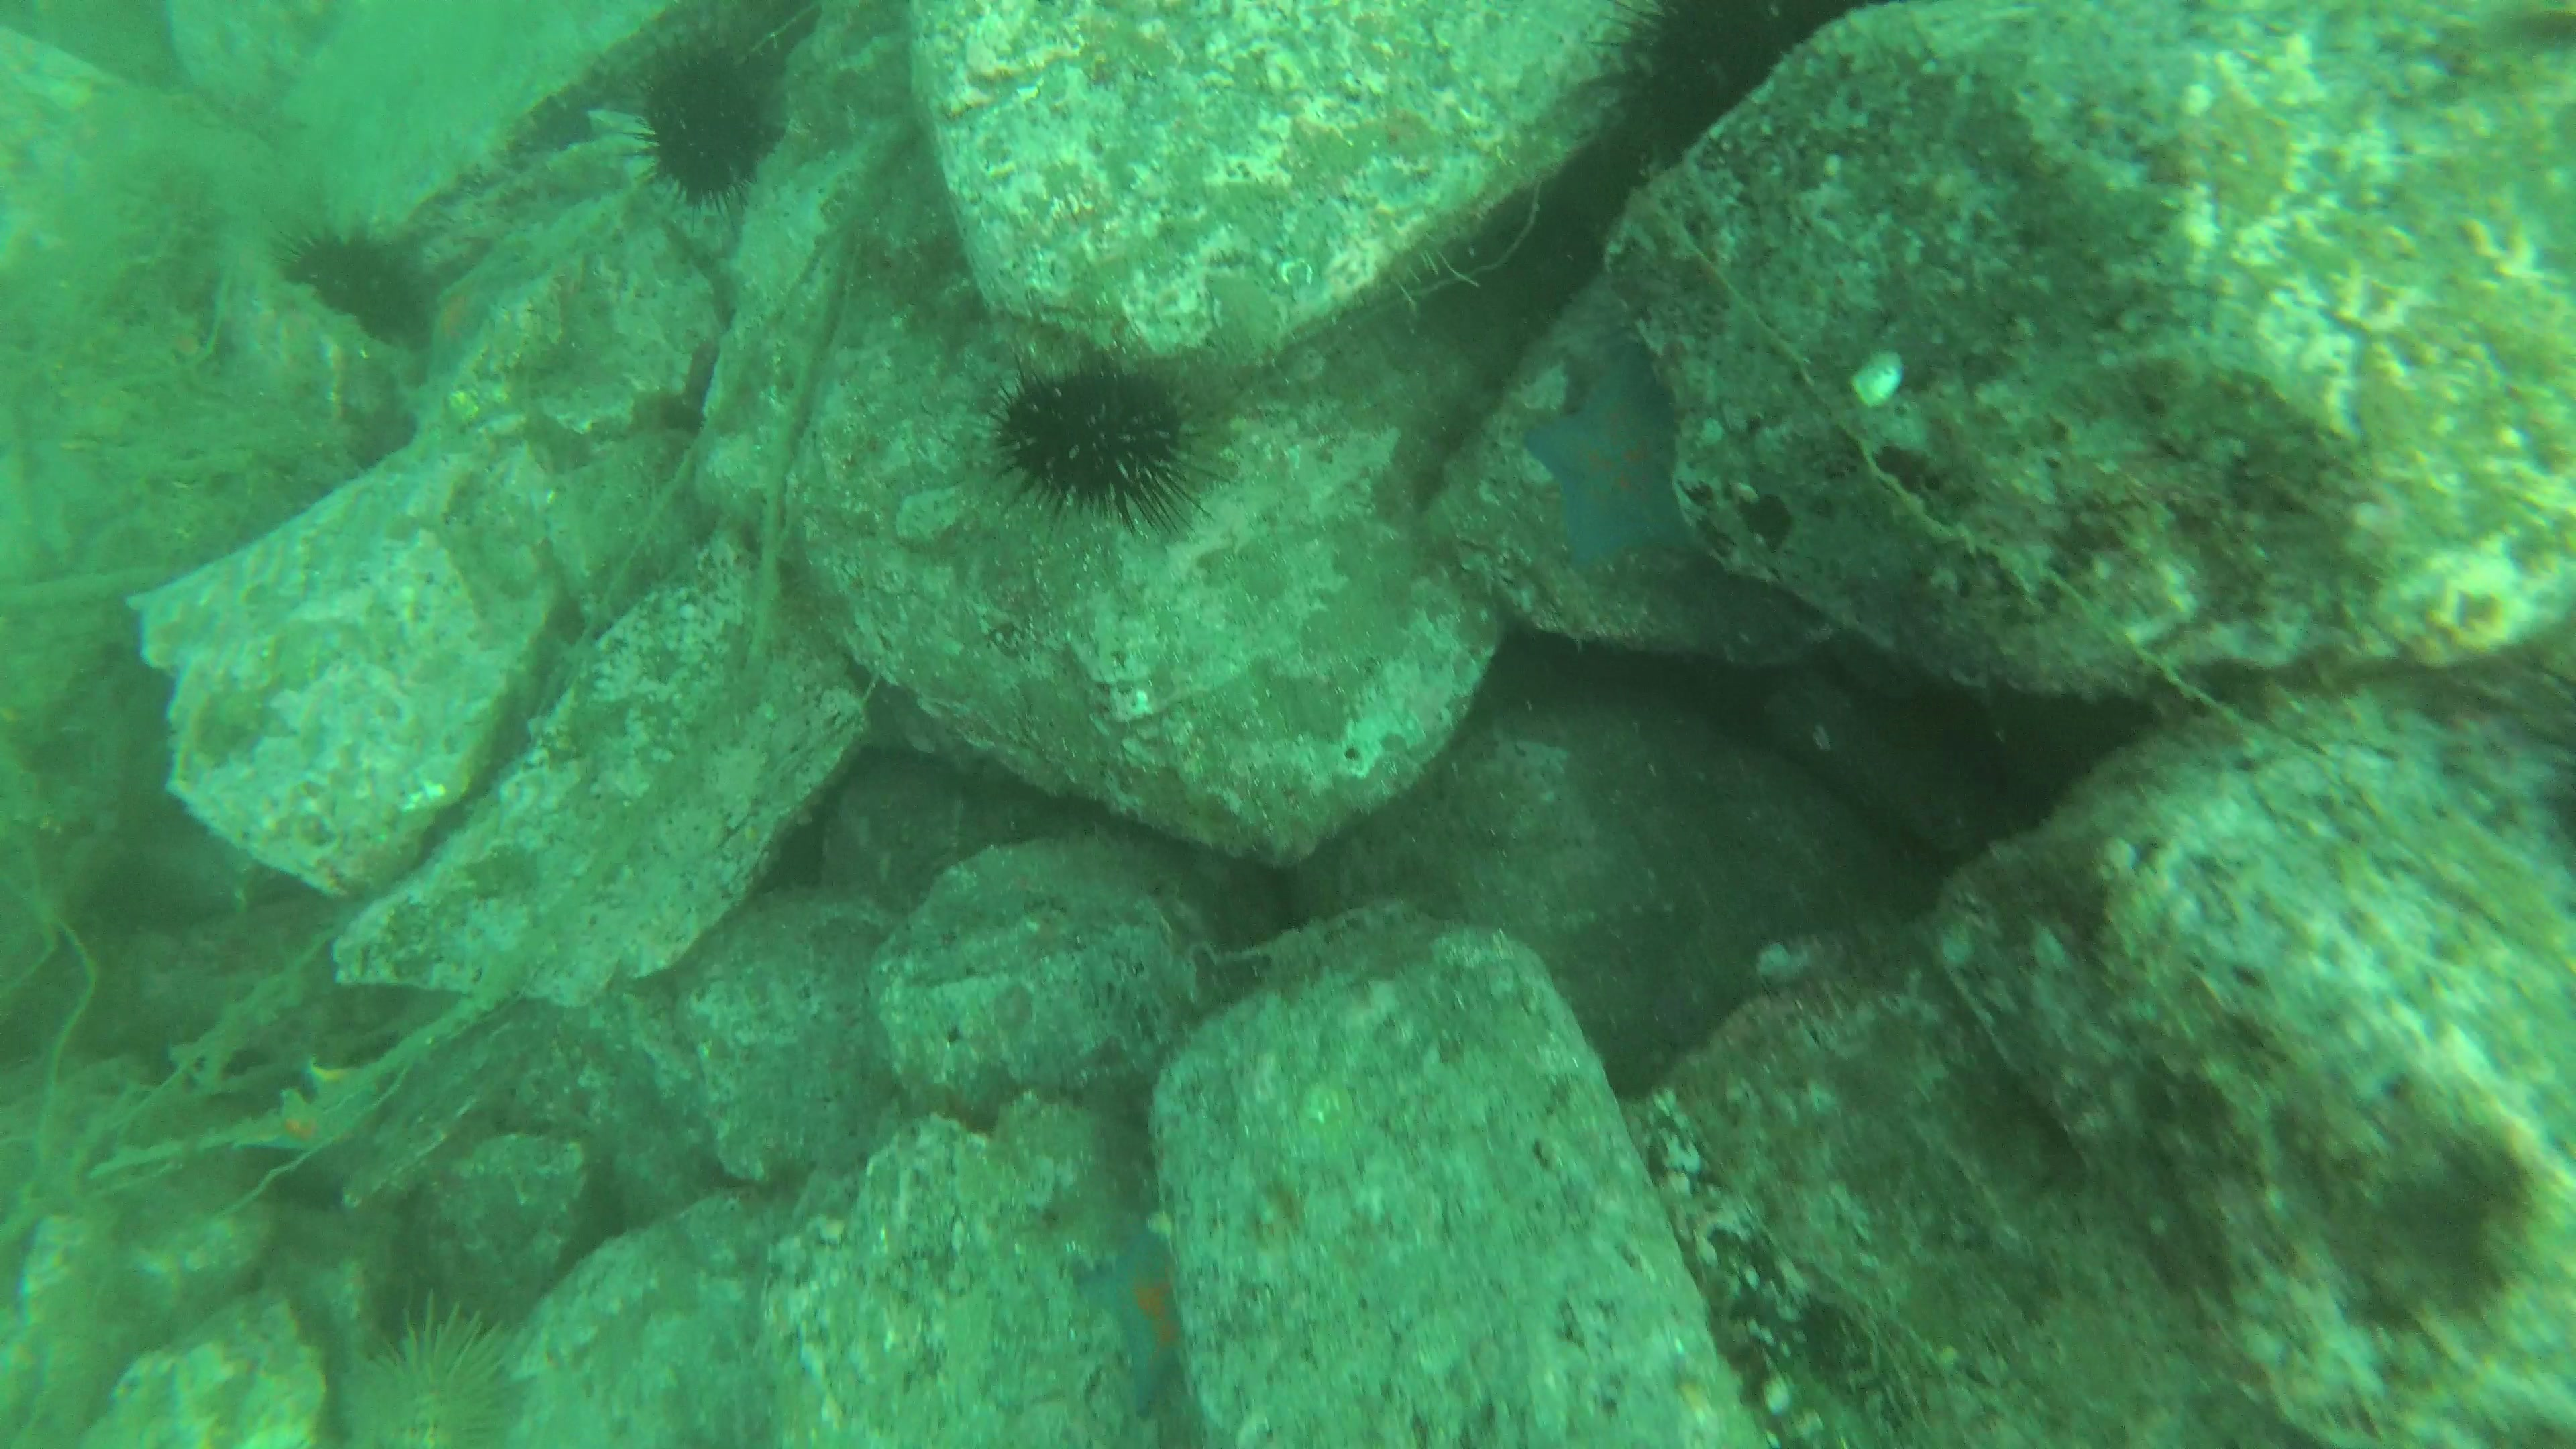echinus: (966, 310, 1244, 547), (340, 1284, 538, 1449), (616, 34, 793, 214), (271, 209, 444, 361)
holothurian: (2362, 794, 2574, 973)
starfish: (1525, 338, 1711, 573), (1079, 1226, 1196, 1419), (419, 260, 522, 384), (230, 1092, 364, 1159)
